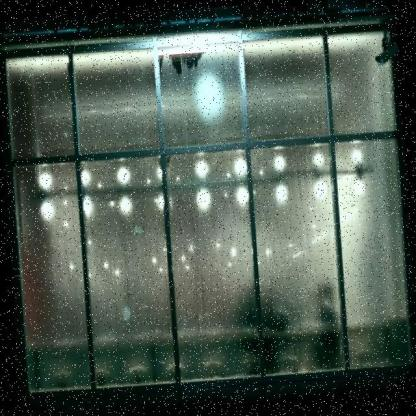Window: (0, 8, 416, 401)
